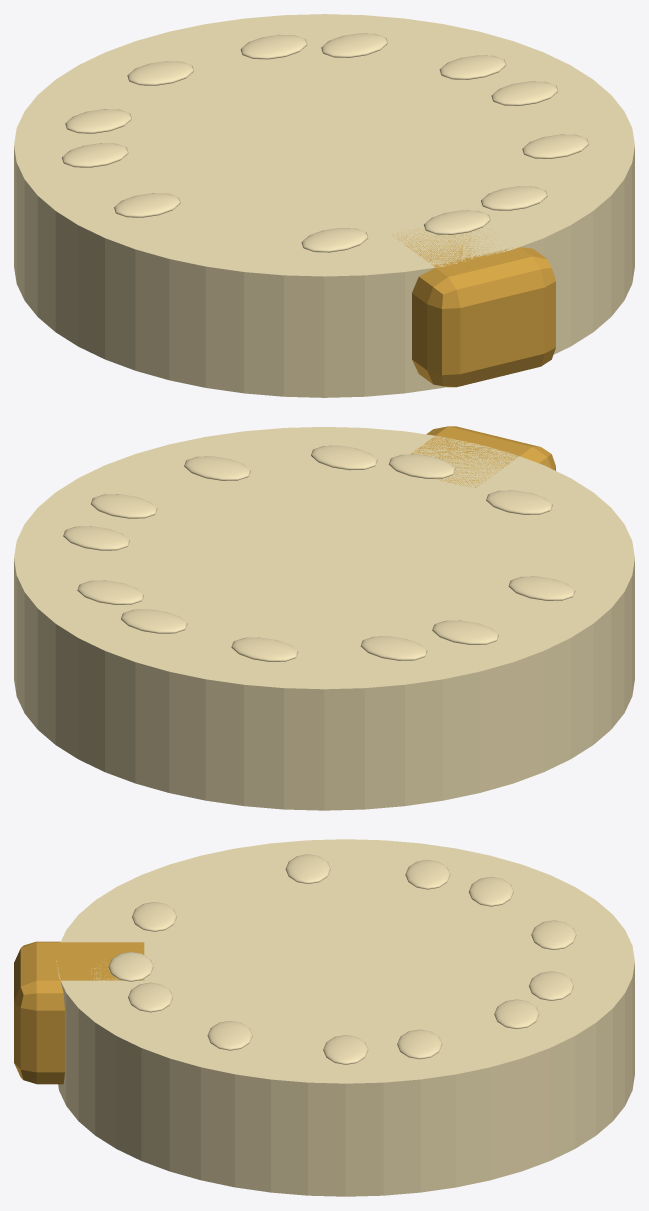
The model's file is food_zone_runtime.glb.
3 views of the same model, one above another, from view 1: azimuth 30°, elevation 25°; view 2: azimuth 150°, elevation 25°; view 3: azimuth 270°, elevation 25° (orthographic). The views are drawn at different scales.
Visible parts, largest first — view 1: Camembert rind, Cut creamy wedge, Rind bloom.008, Rind bloom, Rind bloom.003, Rind bloom.004, Rind bloom.009, Rind bloom.007, Rind bloom.010, Rind bloom.001, Rind bloom.006, Rind bloom.005 (+2 smaller); view 2: Camembert rind, Cut creamy wedge, Rind bloom.001, Rind bloom.002, Rind bloom.004, Rind bloom.006, Rind bloom.008, Rind bloom.003, Rind bloom.009, Rind bloom.011, Rind bloom.005, Rind bloom (+2 smaller); view 3: Camembert rind, Cut creamy wedge, Rind bloom.002, Rind bloom, Rind bloom.001, Rind bloom.007, Rind bloom.004, Rind bloom.008, Rind bloom.009, Rind bloom.010, Rind bloom.003, Rind bloom.005 (+2 smaller).
Boxes of the visible parts, bbox=[...] form: Camembert rind: bbox=[14, 14, 634, 397]; Cut creamy wedge: bbox=[392, 228, 555, 387]; Rind bloom.008: bbox=[439, 55, 506, 79]; Rind bloom: bbox=[491, 81, 558, 105]; Rind bloom.003: bbox=[321, 33, 387, 57]; Rind bloom.004: bbox=[114, 193, 180, 217]; Rind bloom.009: bbox=[62, 143, 128, 167]; Rind bloom.007: bbox=[301, 228, 368, 252]; Rind bloom.010: bbox=[481, 186, 547, 210]; Rind bloom.001: bbox=[65, 109, 131, 133]; Rind bloom.006: bbox=[127, 61, 193, 85]; Rind bloom.005: bbox=[522, 134, 588, 158]; Camembert rind: bbox=[14, 427, 634, 810]; Cut creamy wedge: bbox=[391, 426, 555, 488]; Rind bloom.001: bbox=[360, 636, 427, 660]; Rind bloom.002: bbox=[388, 454, 455, 478]; Rind bloom.004: bbox=[508, 576, 575, 600]; Rind bloom.006: bbox=[231, 637, 298, 661]; Rind bloom.008: bbox=[63, 526, 129, 550]; Rind bloom.003: bbox=[77, 580, 143, 604]; Rind bloom.009: bbox=[432, 620, 498, 644]; Rind bloom.011: bbox=[121, 609, 187, 633]; Rind bloom.005: bbox=[184, 456, 250, 480]; Rind bloom: bbox=[91, 494, 157, 518]; Camembert rind: bbox=[56, 839, 634, 1196]; Cut creamy wedge: bbox=[14, 941, 144, 1084]; Rind bloom.002: bbox=[108, 952, 153, 981]; Rind bloom: bbox=[323, 1035, 368, 1064]; Rind bloom.001: bbox=[468, 876, 513, 906]; Rind bloom.007: bbox=[132, 902, 176, 931]; Rind bloom.004: bbox=[285, 854, 330, 883]; Rind bloom.008: bbox=[397, 1029, 442, 1059]; Rind bloom.009: bbox=[405, 859, 450, 889]; Rind bloom.010: bbox=[128, 982, 172, 1012]; Rind bloom.003: bbox=[494, 999, 539, 1029]; Rind bloom.005: bbox=[207, 1021, 252, 1050].
Size of the model in its own units: 1.02 by 0.233 by 1.09.
